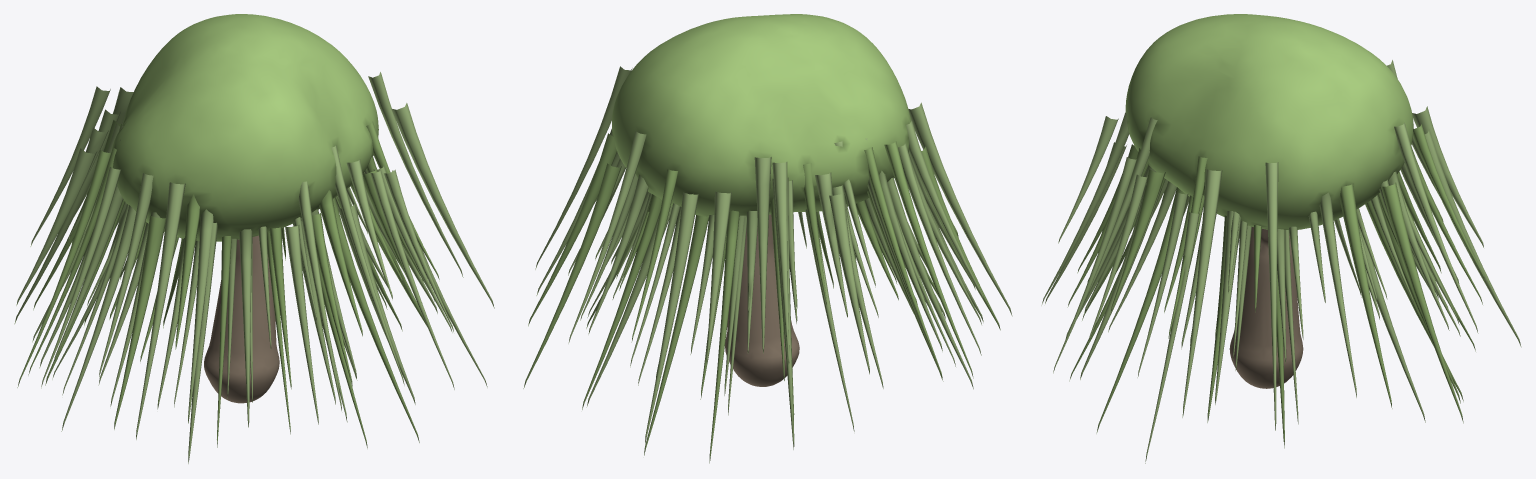
Rendered from saule.glb.
3 views of the same model, side by side, from view 1: azimuth 30°, elevation 25°; view 2: azimuth 150°, elevation 25°; view 3: azimuth 270°, elevation 25° (orthographic).
Visible parts, largest first — view 1: houppe__leaf, tronc__bark, meche23__leaf2, meche34__leaf2, meche57__leaf, meche18__leaf, meche37__leaf2, meche22__leaf2, meche56__leaf2, meche62__leaf2, meche101__leaf2, meche95__leaf2 (+36 smaller); view 2: houppe__leaf, tronc__bark, meche46__leaf2, meche23__leaf2, meche78__leaf, meche45__leaf, meche49__leaf2, meche18__leaf, meche48__leaf, meche13__leaf2, meche88__leaf2, meche83__leaf2 (+32 smaller); view 3: houppe__leaf, tronc__bark, meche34__leaf2, meche78__leaf, meche39__leaf, meche37__leaf2, meche44__leaf2, meche40__leaf2, meche30__leaf, meche70__leaf2, meche68__leaf2, meche69__leaf (+28 smaller).
Boxes of the visible parts, x1,y1,x2,y2 form: houppe__leaf: [111, 14, 378, 241]; tronc__bark: [204, 235, 279, 403]; meche23__leaf2: [136, 182, 185, 439]; meche34__leaf2: [391, 103, 494, 308]; meche57__leaf: [114, 215, 165, 429]; meche18__leaf: [17, 150, 111, 387]; meche37__leaf2: [368, 72, 463, 277]; meche22__leaf2: [188, 209, 213, 423]; meche56__leaf2: [61, 205, 136, 431]; meche62__leaf2: [285, 225, 318, 424]; meche101__leaf2: [298, 181, 341, 410]; meche95__leaf2: [99, 173, 153, 377]; houppe__leaf: [612, 14, 910, 217]; tronc__bark: [725, 214, 799, 386]; meche46__leaf2: [645, 192, 698, 444]; meche23__leaf2: [908, 102, 1012, 316]; meche78__leaf: [523, 163, 621, 388]; meche45__leaf: [644, 215, 708, 455]; meche49__leaf2: [754, 157, 771, 353]; meche18__leaf: [884, 141, 973, 378]; meche48__leaf: [709, 210, 739, 463]; meche13__leaf2: [772, 162, 789, 365]; meche88__leaf2: [829, 192, 869, 374]; meche83__leaf2: [706, 191, 731, 364]; houppe__leaf: [1125, 14, 1413, 229]; tronc__bark: [1229, 227, 1303, 388]; meche34__leaf2: [1182, 169, 1222, 417]; meche78__leaf: [1381, 182, 1463, 423]; meche39__leaf: [1339, 183, 1392, 408]; meche37__leaf2: [1265, 162, 1278, 430]; meche44__leaf2: [1394, 122, 1478, 333]; meche40__leaf2: [1319, 192, 1356, 397]; meche30__leaf: [1096, 187, 1188, 433]; meche70__leaf2: [1145, 212, 1199, 463]; meche68__leaf2: [1053, 157, 1136, 373]; meche69__leaf: [1110, 169, 1165, 313].
Bounding box in the file's own units: 6.69 × 5.34 × 6.29.
